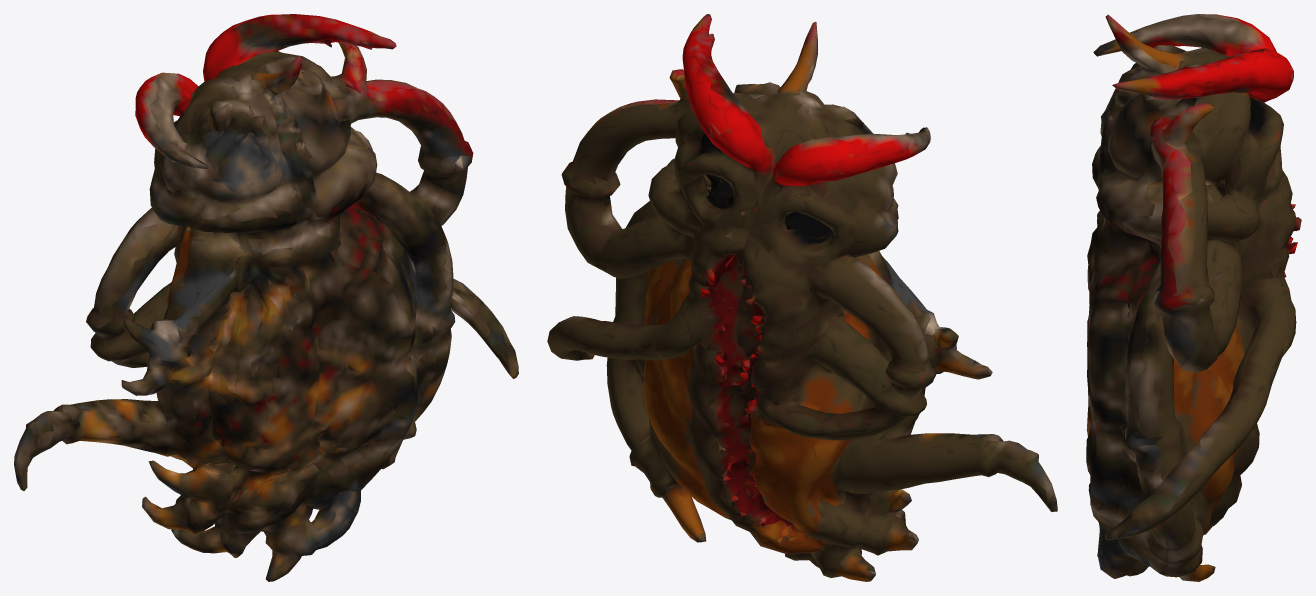
File: TROOL0.obj
3 renders of one model, left to right at view 1: azimuth 30°, elevation 25°; view 2: azimuth 150°, elevation 25°; view 3: azimuth 270°, elevation 25°, orthographic. The views are drawn at different scales.
Bounding box in the file's own units: 0.9739 × 1 × 0.3424.
Materials: 1 (1 with a texture image).
